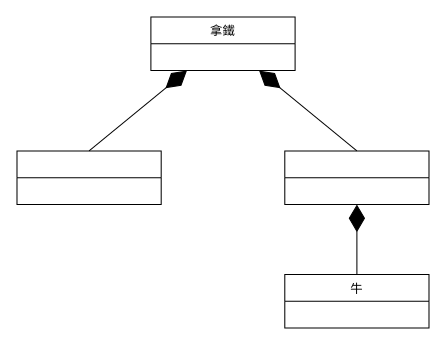
Some shapes in this 446 by 345 pixel diagram are drawn without their labels. The shapes that lost their labels are listed below. From the top down, each one's centre as x and y in pixels, then its label:
pixel 88 177: 濃縮咖啡
pixel 356 177: 牛奶
